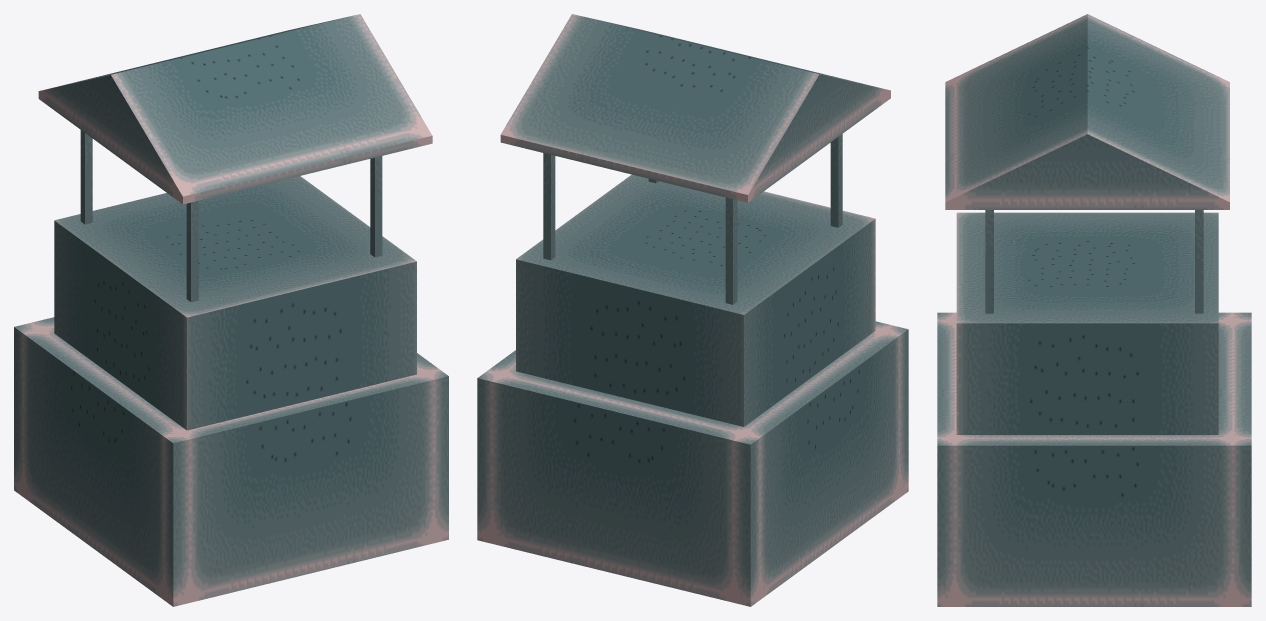
Rendered from yk_katto_lvi_tuuletusaukko4.fbx.
3 renders of one model, left to right at view 1: azimuth 30°, elevation 25°; view 2: azimuth 150°, elevation 25°; view 3: azimuth 270°, elevation 25°, orthographic.
Visible parts, largest first — view 1: Plane.004; view 2: Plane.004; view 3: Plane.004.
Part boxes in pixels (x1,y1,x2,y2): Plane.004: [14, 14, 448, 606]; Plane.004: [477, 14, 908, 606]; Plane.004: [937, 14, 1251, 606].
Size of the model in its own units: 118 by 194 by 118.
